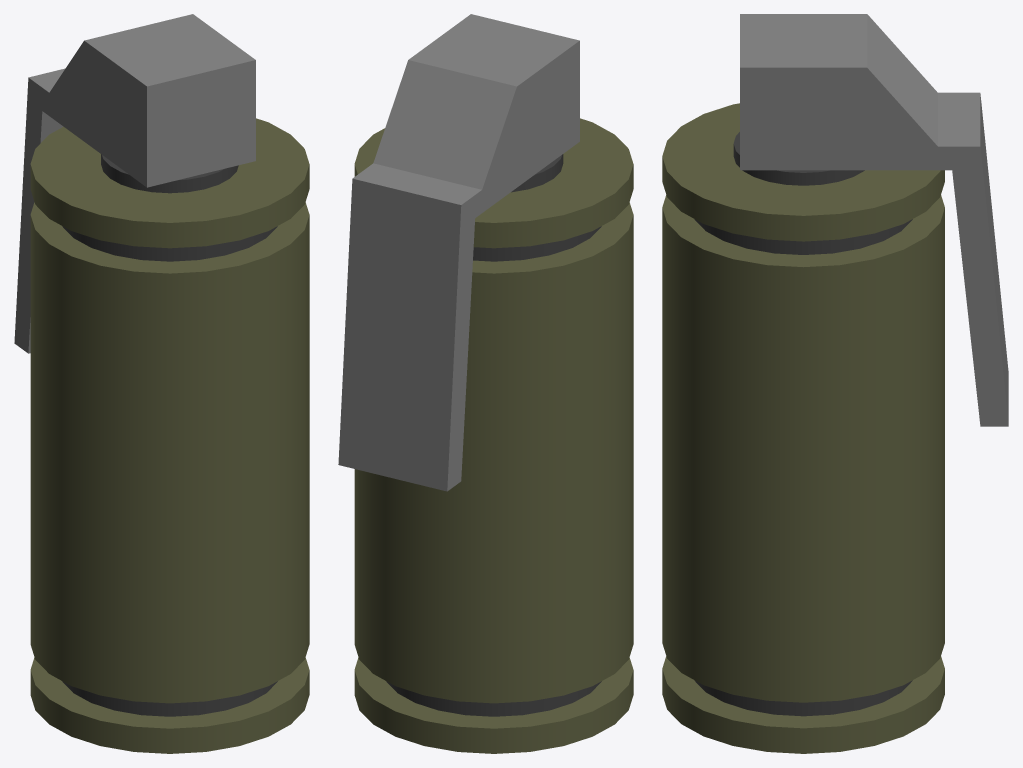
The model's file is grenadeSmoke.fbx.
3 renders of one model, left to right at view 1: azimuth 30°, elevation 25°; view 2: azimuth 150°, elevation 25°; view 3: azimuth 270°, elevation 25°, orthographic.
Visible parts, largest first — view 1: Mesh1_Group2 Group1 Model, Mesh2_Group3 Group1 Model; view 2: Mesh1_Group2 Group1 Model, Mesh2_Group3 Group1 Model; view 3: Mesh1_Group2 Group1 Model, Mesh2_Group3 Group1 Model.
Part boxes in pixels (x1,y1,x2,y2): Mesh1_Group2 Group1 Model: (30, 118, 309, 753); Mesh2_Group3 Group1 Model: (14, 14, 255, 353); Mesh1_Group2 Group1 Model: (354, 118, 633, 753); Mesh2_Group3 Group1 Model: (338, 14, 579, 491); Mesh1_Group2 Group1 Model: (662, 103, 944, 753); Mesh2_Group3 Group1 Model: (740, 14, 1008, 426).
Size of the model in its own units: 0.012 by 0.0306 by 0.0147.
